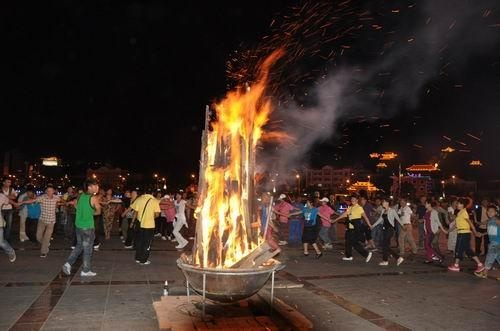fire: (191, 40, 294, 270)
